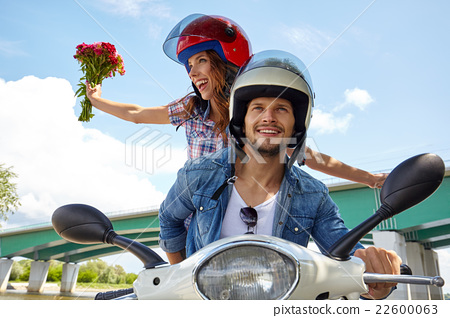helmet: (229, 58, 320, 133), (172, 10, 249, 72)
